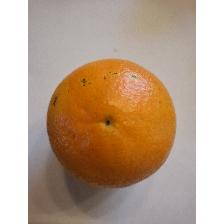Orange: (42, 54, 180, 190)
